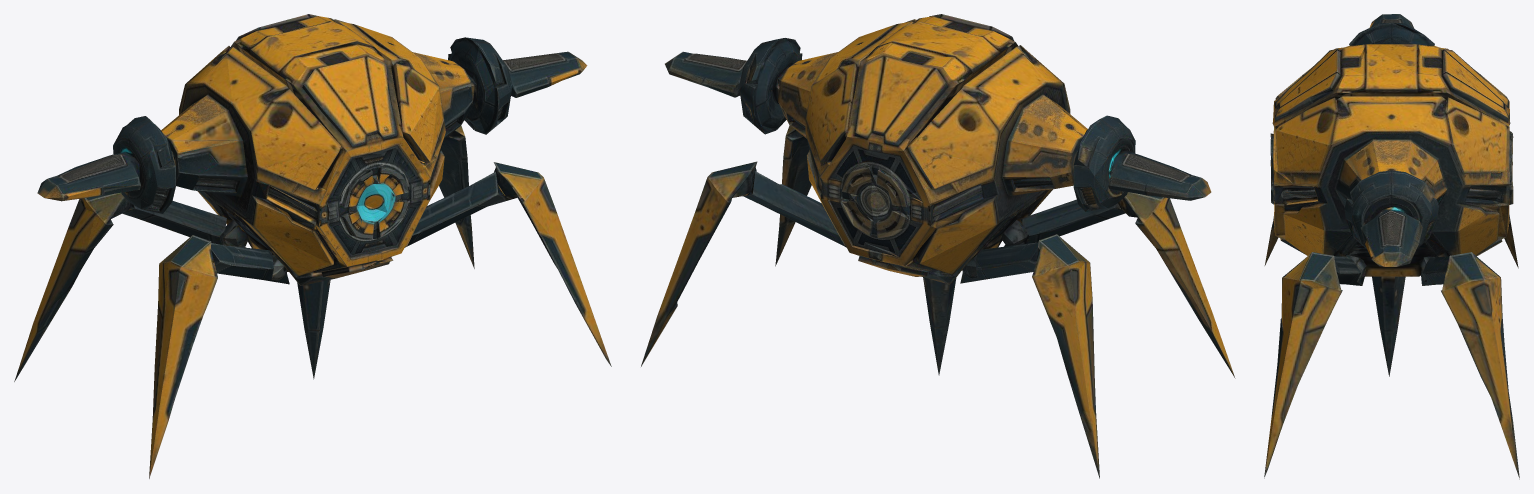
The model's file is Enemy6-v2.glb.
3 renders of one model, left to right at view 1: azimuth 30°, elevation 25°; view 2: azimuth 150°, elevation 25°; view 3: azimuth 270°, elevation 25°, orthographic. The views are drawn at different scales.
Visible parts, largest first — view 1: output_unwrapped; view 2: output_unwrapped; view 3: output_unwrapped.
Part boxes in pixels (x1,y1,x2,y2): output_unwrapped: (14, 14, 611, 478); output_unwrapped: (641, 14, 1235, 478); output_unwrapped: (1264, 14, 1519, 479).
Bounding box in the file's own units: 1.9 × 1.13 × 0.8248.
1 material, 1 textured.
